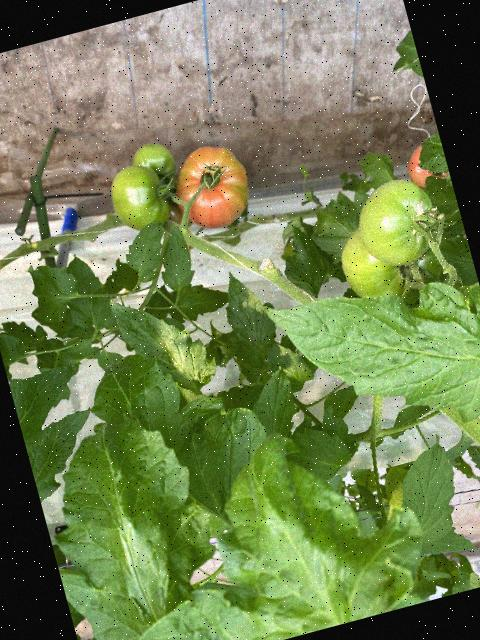b_green: (333, 209, 454, 318), (348, 171, 447, 275), (104, 159, 174, 237), (128, 139, 180, 194)
b_half_ripened: (165, 138, 258, 237)
